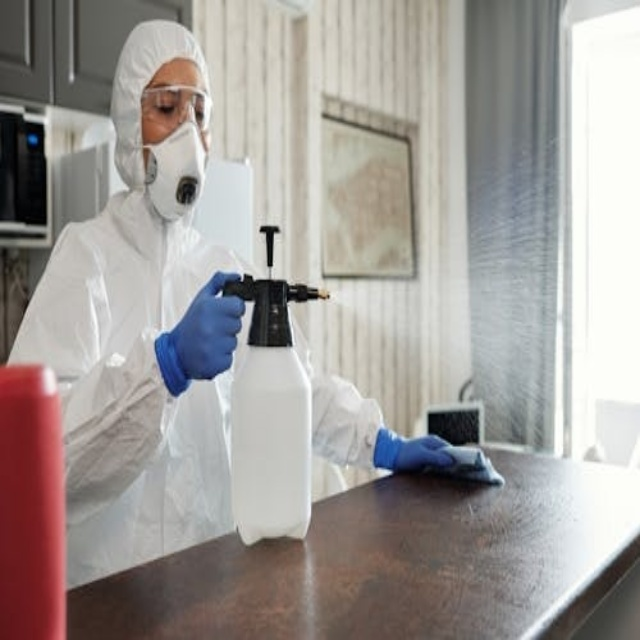Gafas: (139, 84, 214, 132)
Guantes: (157, 270, 249, 396), (374, 427, 456, 474)
Mascara: (142, 119, 206, 222)
